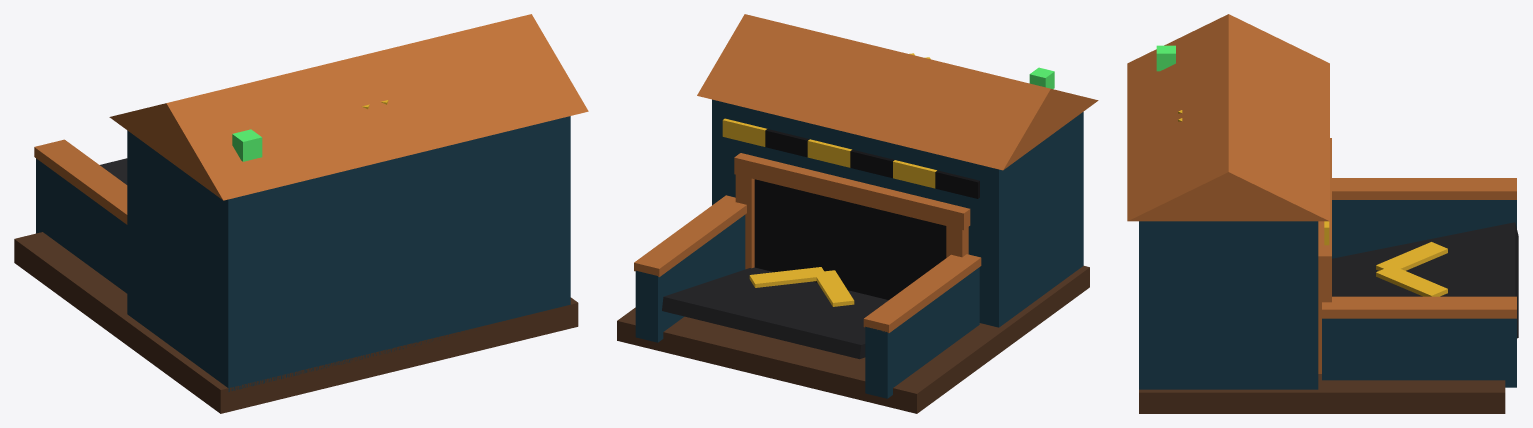
File: underground_in.obj
The picture shows the model from 3 angles, left to right: view 1: azimuth 30°, elevation 25°; view 2: azimuth 150°, elevation 25°; view 3: azimuth 270°, elevation 25°; orthographic projection. The views are drawn at different scales.
Parts seen in each view (by area): view 1: Body, Frame, Lamp; view 2: Body, Frame, Belt, Arrows, Lamp; view 3: Body, Frame, Belt, Arrows, Lamp.
Boxes of the visible parts, box(x1,y1,x2,y2) form: Body: box(14, 14, 588, 413); Frame: box(34, 139, 127, 293); Lamp: box(232, 129, 262, 161); Body: box(617, 14, 1098, 413); Frame: box(634, 195, 981, 398); Belt: box(662, 267, 888, 359); Arrows: box(749, 53, 930, 306); Lamp: box(1029, 67, 1054, 88); Body: box(1127, 14, 1505, 413); Frame: box(1322, 178, 1516, 387); Belt: box(1332, 222, 1518, 338); Arrows: box(1178, 110, 1447, 296); Lamp: box(1156, 45, 1175, 71).
Bounding box in the file's own units: 0.96 × 0.69 × 1.
